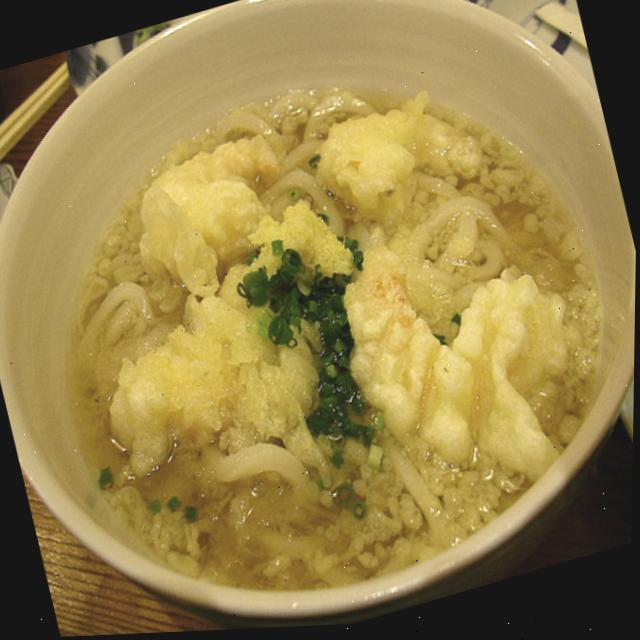面条主食: (14, 11, 640, 639)
